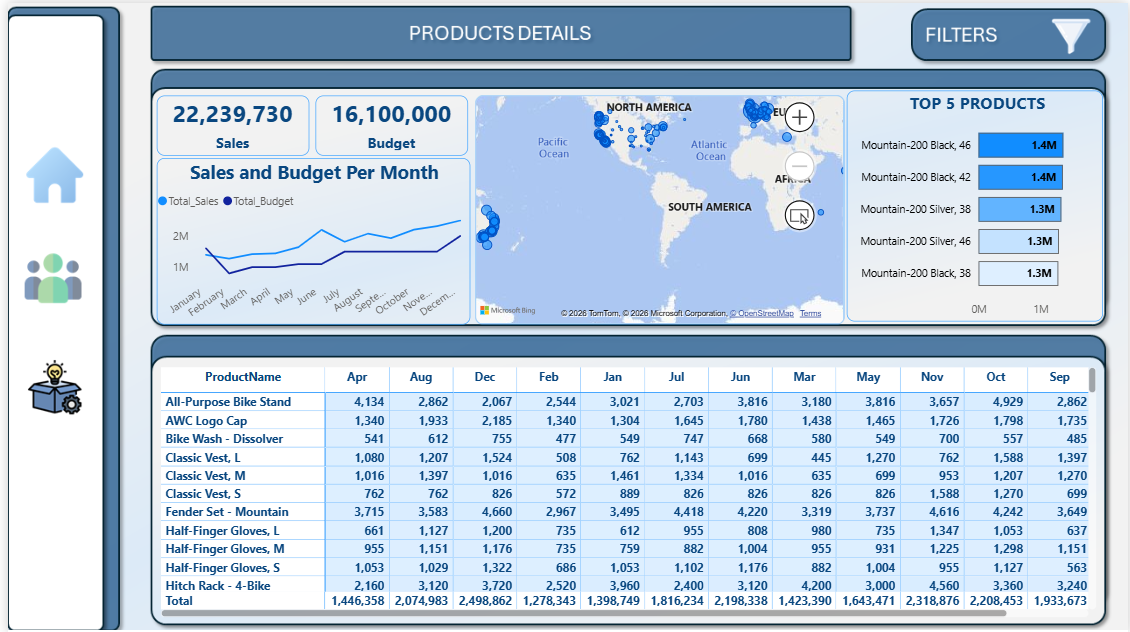

Layout of this report page (visuals, bound fields, positions):
{"tool":"powerbi","page":{"name":"ProductDetails","canvas":[1280,720],"ordinal":2},"visuals":[{"type":"actionButton","box":[10,161.2,87.5,86.2],"z":0},{"type":"actionButton","box":[10,278.8,87.5,86.2],"z":1000},{"type":"actionButton","box":[10,401.2,87.5,86.2],"z":2000},{"type":"card","fields":{"Values":["Key_Measures.Total_Sales"]},"box":[170,105.7,174.3,68.6],"z":3000},{"type":"card","fields":{"Values":["Key_Measures.Total_Budget"]},"box":[351.4,105.7,174.3,68.6],"z":4000},{"type":"lineChart","title":"Sales and Budget Per Month","fields":{"Category":["DIM_Calendar.Date.Variation.Date Hierarchy.Month"],"Y":["Key_Measures.Total_Sales","Key_Measures.Total_Budget"]},"box":[170,177.1,358.6,190],"z":5000},{"type":"map","fields":{"Category":["Dim_Customer.CustomerCity"],"Size":["Sum(Fact_InternetSales.SalesAmount)"]},"box":[534.3,105.7,421.4,261.4],"z":6000},{"type":"clusteredBarChart","title":"TOP 5 PRODUCTS","fields":{"Y":["Sum(Fact_InternetSales.SalesAmount)"],"Category":["Dim_Products.ProductName"]},"box":[958.6,100,292.9,264.3],"z":7000},{"type":"pivotTable","fields":{"Columns":["DIM_Calendar.MonthShort"],"Values":["Key_Measures.Total_Sales"],"Rows":["Dim_Products.ProductName"]},"box":[170,411.4,1078.6,295.7],"z":8000},{"type":"actionButton","box":[1036.2,10,217.5,52.5],"z":9001}]}

Visuals, with their boxes on the page's 1280x720 design canvas (x1, y1, x2, y2). These are canvas units, not pixel positions in the 1130x632 screenshot, which may show the page scaled, cropped or inside an application window:
actionButton: <region>10, 161, 98, 247</region>
actionButton: <region>10, 279, 98, 365</region>
actionButton: <region>10, 401, 98, 487</region>
card - Key_Measures.Total_Sales: <region>170, 106, 344, 174</region>
card - Key_Measures.Total_Budget: <region>351, 106, 526, 174</region>
"Sales and Budget Per Month" lineChart: <region>170, 177, 529, 367</region>
map - Dim_Customer.CustomerCity x Sum(Fact_InternetSales.SalesAmount): <region>534, 106, 956, 367</region>
"TOP 5 PRODUCTS" clusteredBarChart: <region>959, 100, 1252, 364</region>
pivotTable - DIM_Calendar.MonthShort x Key_Measures.Total_Sales: <region>170, 411, 1249, 707</region>
actionButton: <region>1036, 10, 1254, 62</region>
